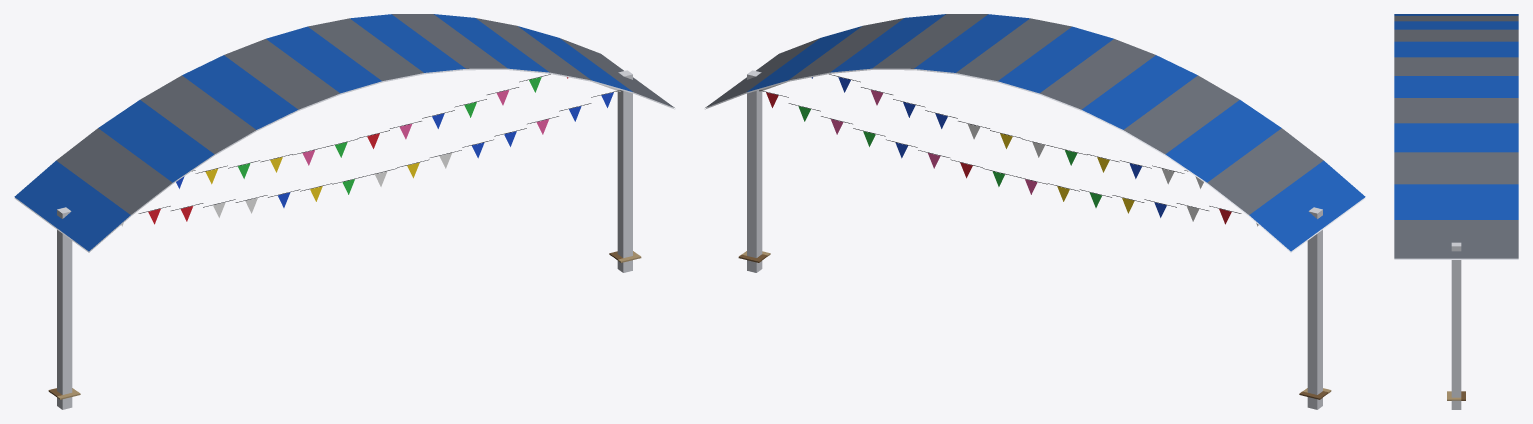
The model's file is poli_techo.obj.
The picture shows the model from 3 angles, left to right: view 1: azimuth 30°, elevation 25°; view 2: azimuth 150°, elevation 25°; view 3: azimuth 270°, elevation 25°; orthographic projection. The views are drawn at different scales.
Visible parts, largest first — view 1: poli_techo; view 2: poli_techo; view 3: poli_techo.
Boxes of the visible parts, x1,y1,x2,y2 form: poli_techo: (14,14,674,409); poli_techo: (705,14,1365,409); poli_techo: (1394,14,1518,409).
Size of the model in its own units: 27.2 by 12.6 by 6.
